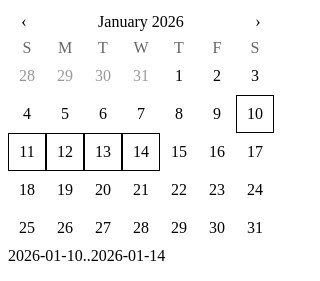
it: RangeCalendar › completes the range on a second click
Click the button with class "sve-range-day" showing "3" at [255, 76], box top-left (251, 67), bottom-right (259, 84)
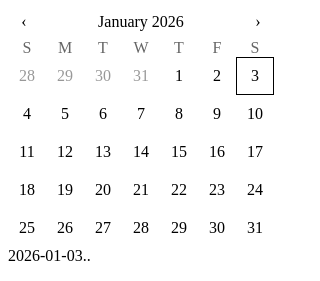
Click the button with class "sve-range-day" showing "7" at [141, 114], box top-left (137, 105), bottom-right (145, 122)
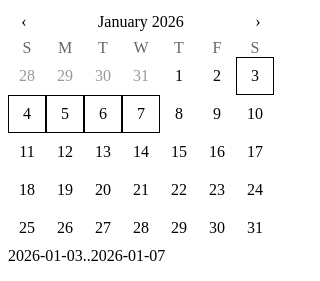
Check: the text with test id "range" reads "2026-01-03..2026-01-07", box top-left (8, 247), bottom-right (165, 264)
